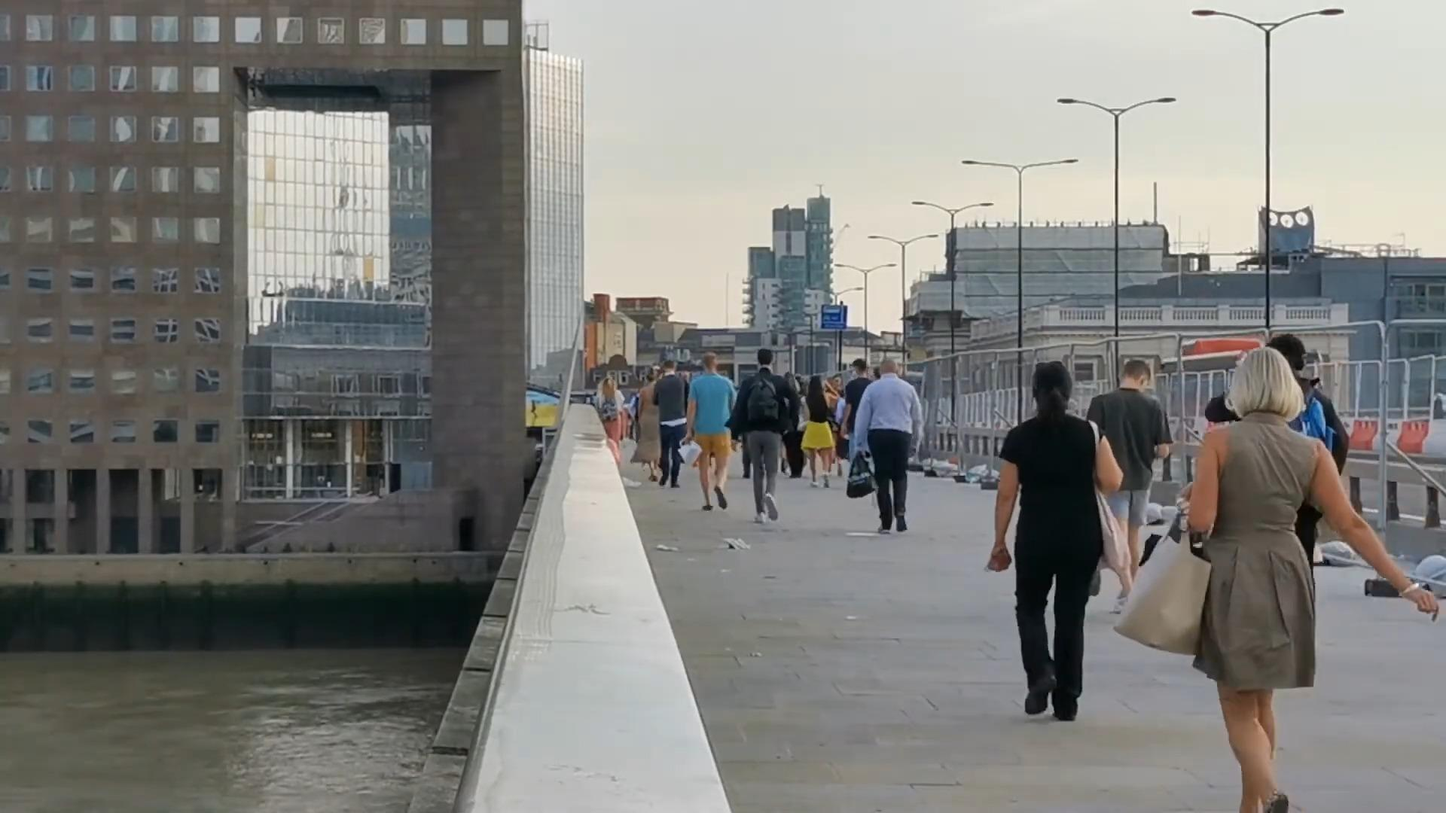no-helmet: (1224, 347, 1304, 425), (1032, 360, 1073, 431), (1264, 332, 1305, 376), (1119, 360, 1151, 394), (807, 375, 825, 402), (701, 352, 718, 373), (601, 377, 616, 400), (879, 359, 898, 377), (757, 348, 773, 367)
